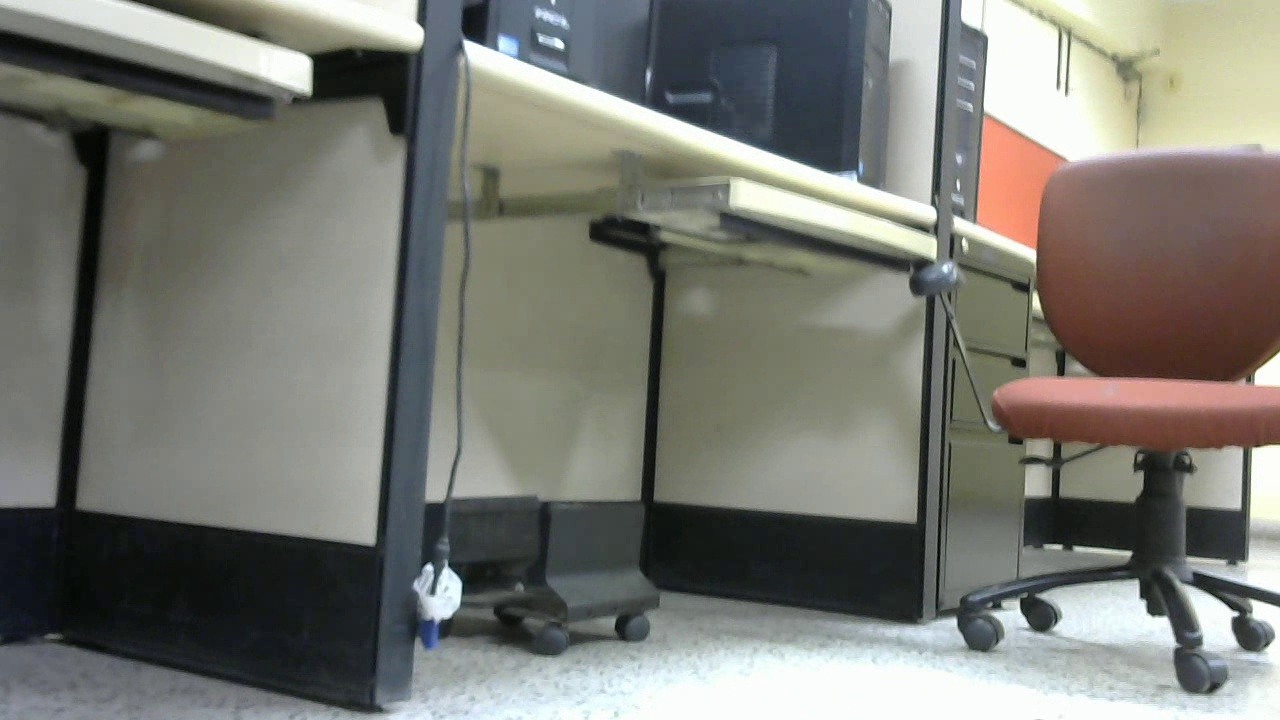chair: (545, 3, 1149, 720), (1, 199, 229, 526)
